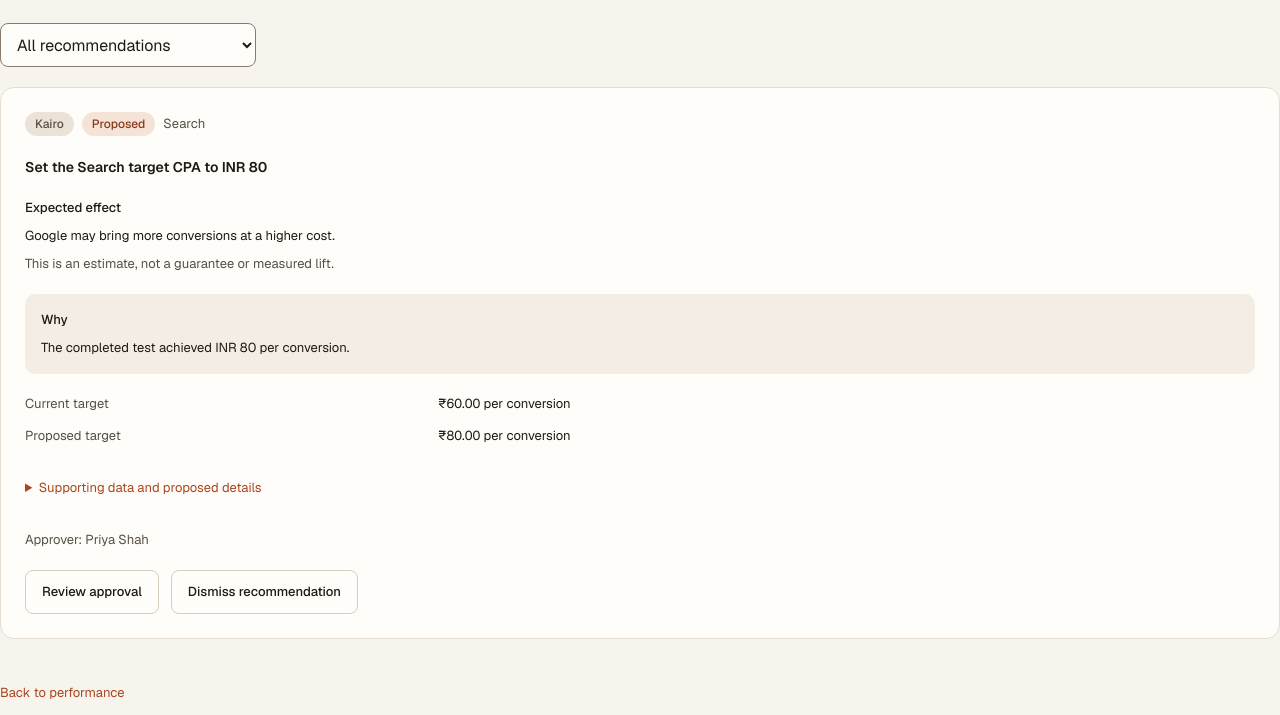
Google approval failure requires review rather than a duplicate blind retry
(page scrolled)
What coordinates should you click on to do the following:
click the button "Review approval"
I would click on:
 (92, 592)
Its box is [25,570,159,614].
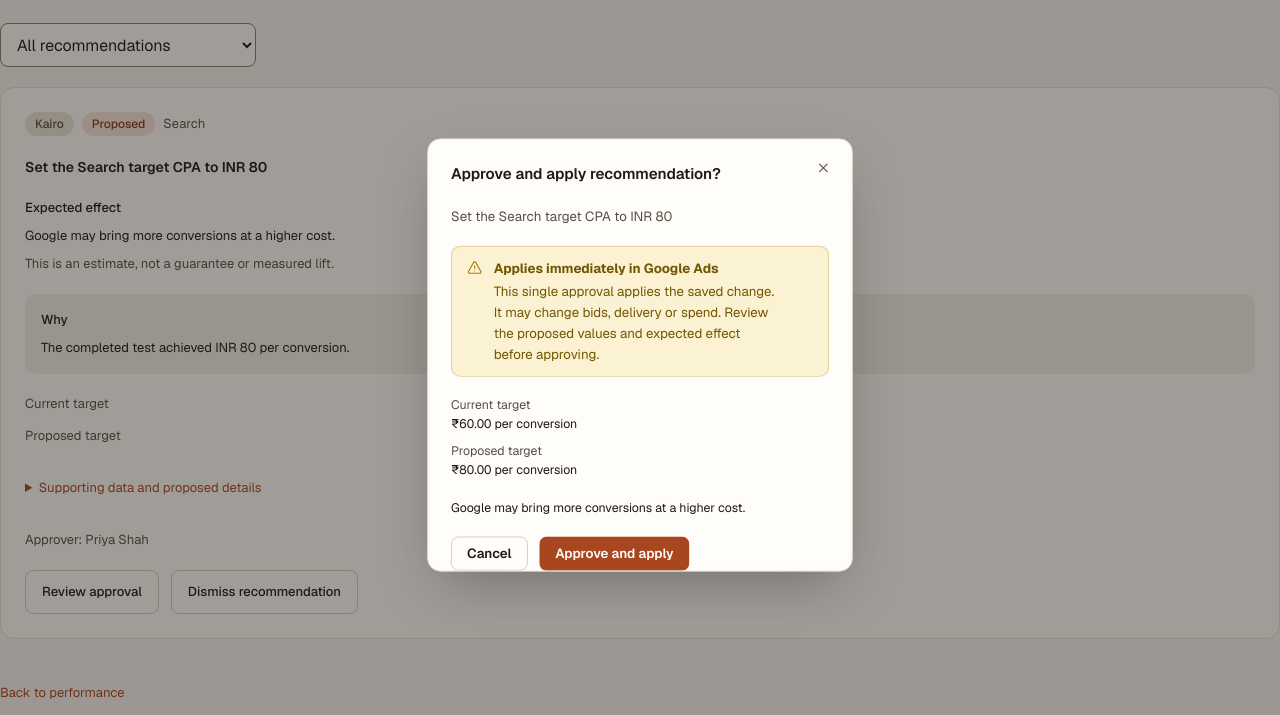
What coordinates should you click on to do the following:
click the button "Approve and apply"
I would click on:
 (614, 554)
Its box is [539,536,690,571].
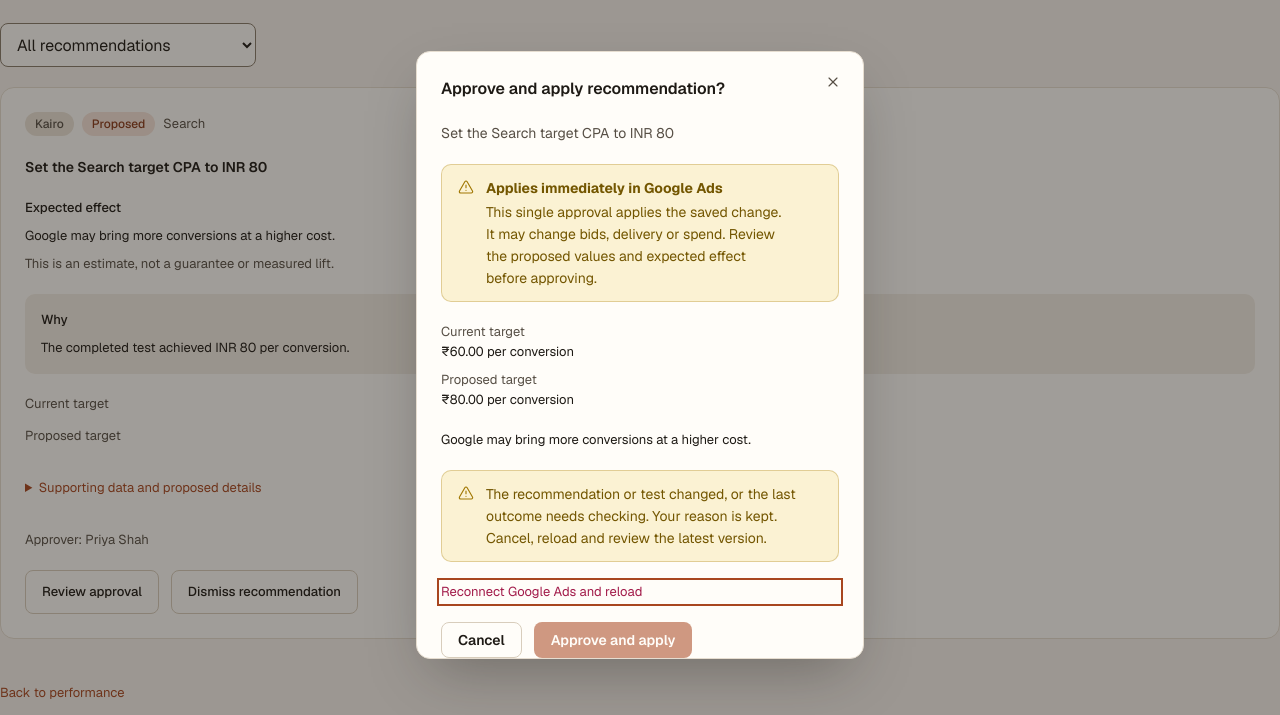
Now the button "Approve and apply" is disabled, box [534,622,692,658]
Now the text "Your reason is kept" is shown, box [486,485,796,547]
